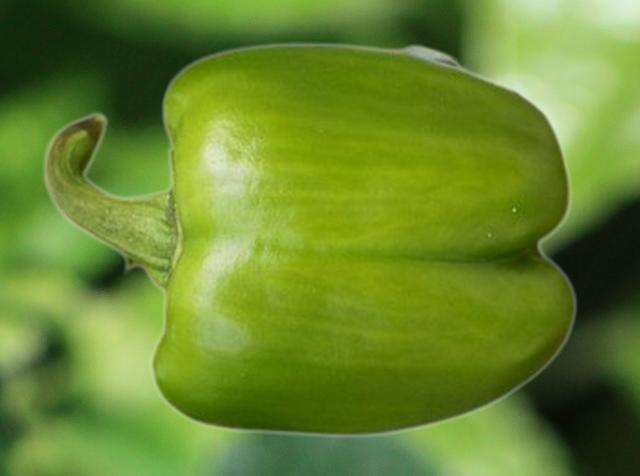bell_pepper: (42, 41, 577, 438)
